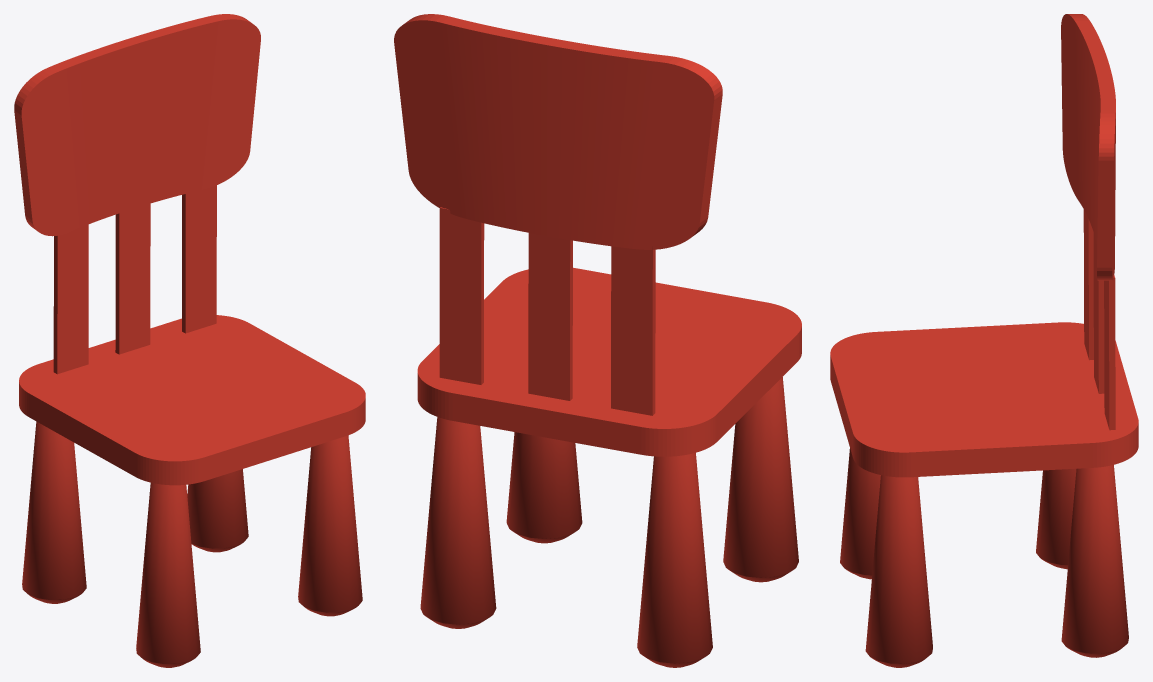
Rendered from chair.glb.
The picture shows the model from 3 angles, left to right: view 1: azimuth 30°, elevation 25°; view 2: azimuth 150°, elevation 25°; view 3: azimuth 270°, elevation 25°; orthographic projection. The views are drawn at different scales.
Visible parts, largest first — view 1: Chair_Head, Chair_Body, Chair_Leg, Chair_Neck; view 2: Chair_Head, Chair_Leg, Chair_Body, Chair_Neck; view 3: Chair_Body, Chair_Leg, Chair_Head, Chair_Neck.
Part boxes in pixels (x1,y1,x2,y2): Chair_Head: (14, 14, 260, 236); Chair_Body: (19, 315, 365, 485); Chair_Leg: (22, 421, 362, 667); Chair_Neck: (53, 185, 216, 374); Chair_Head: (394, 14, 722, 249); Chair_Leg: (420, 377, 798, 667); Chair_Body: (417, 267, 801, 456); Chair_Neck: (439, 207, 655, 415); Chair_Body: (830, 322, 1138, 477); Chair_Leg: (840, 448, 1128, 667); Chair_Head: (1061, 14, 1115, 280); Chair_Neck: (1083, 209, 1115, 430).
Size of the model in its own units: 0.5714 by 1.1 by 0.5586.
3 materials, 3 textured.
